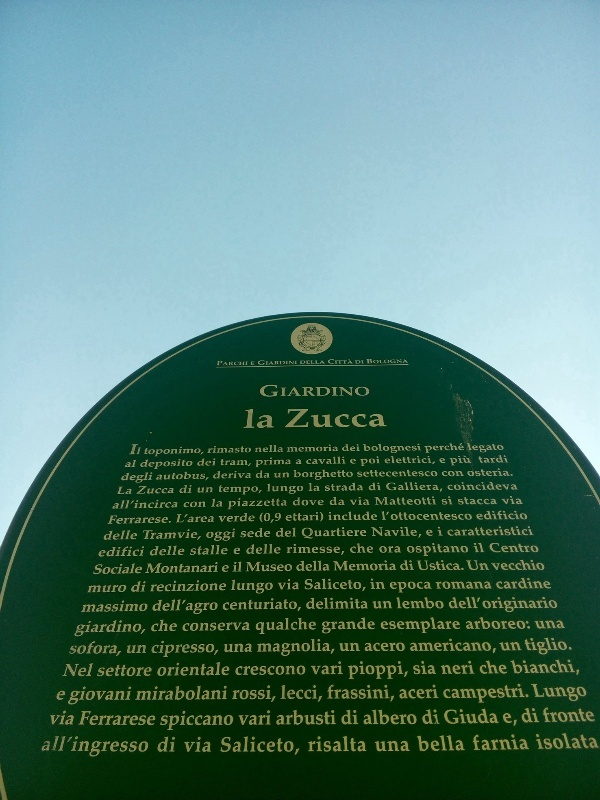text: (49, 735, 64, 761), (65, 735, 80, 761), (81, 735, 96, 761), (97, 735, 112, 761), (113, 735, 128, 761), (129, 735, 144, 761), (177, 711, 192, 735), (193, 711, 208, 735), (209, 711, 224, 735), (289, 680, 304, 704), (305, 680, 320, 704), (257, 579, 273, 601), (529, 636, 544, 659), (545, 636, 560, 659), (545, 684, 560, 707), (561, 684, 576, 707), (449, 732, 465, 753), (241, 579, 256, 601), (337, 613, 352, 635), (353, 613, 368, 635), (449, 685, 464, 707), (465, 685, 480, 707), (481, 685, 496, 707), (497, 685, 512, 707), (513, 685, 528, 707), (481, 635, 497, 655), (289, 408, 304, 429), (305, 408, 320, 429), (321, 408, 336, 429), (337, 408, 352, 429), (353, 408, 368, 429), (369, 408, 384, 429), (257, 408, 272, 429), (385, 614, 400, 635), (401, 614, 416, 635), (417, 614, 432, 635), (433, 614, 448, 635), (225, 736, 240, 757), (241, 736, 256, 757), (257, 736, 272, 757), (273, 736, 288, 757), (417, 732, 432, 753), (433, 732, 448, 753), (163, 711, 176, 735), (81, 637, 96, 657), (97, 637, 112, 657), (161, 640, 176, 660), (177, 640, 192, 660), (193, 640, 208, 660), (257, 638, 272, 658), (273, 638, 288, 658), (289, 638, 304, 658), (305, 638, 320, 658), (417, 635, 432, 655), (433, 635, 448, 655), (449, 635, 464, 655), (465, 635, 480, 655), (531, 684, 544, 707), (81, 618, 96, 637), (97, 618, 112, 637), (113, 618, 128, 637), (129, 618, 144, 637), (257, 616, 272, 635), (273, 616, 288, 635), (289, 616, 304, 635), (225, 594, 240, 613), (241, 594, 256, 613), (257, 594, 272, 613), (273, 594, 288, 613), (353, 661, 368, 680), (369, 661, 384, 680), (385, 661, 400, 680), (449, 595, 464, 614), (465, 595, 480, 614), (481, 595, 496, 614), (497, 595, 512, 614), (513, 595, 528, 614), (529, 595, 544, 614), (81, 711, 96, 730), (97, 711, 112, 730), (113, 711, 128, 730), (129, 711, 144, 730), (81, 686, 96, 705), (97, 686, 112, 705), (113, 686, 128, 705), (321, 638, 335, 658), (321, 709, 337, 726), (97, 594, 112, 612), (113, 594, 128, 612), (129, 594, 144, 612), (161, 599, 176, 617), (177, 599, 192, 617), (193, 599, 208, 617), (193, 735, 208, 753), (241, 686, 256, 704), (257, 686, 272, 704), (337, 685, 352, 703), (353, 685, 368, 703), (369, 685, 384, 703), (449, 708, 464, 726), (465, 708, 480, 726), (481, 708, 496, 726), (481, 733, 496, 751), (497, 733, 512, 751), (513, 733, 528, 751), (289, 594, 303, 613), (324, 613, 336, 635), (417, 540, 432, 557), (433, 540, 448, 557), (449, 540, 464, 557), (161, 736, 176, 753), (321, 736, 336, 753), (337, 736, 352, 753), (289, 709, 304, 726), (305, 709, 320, 726), (369, 709, 384, 726), (385, 709, 400, 726), (401, 709, 416, 726), (545, 734, 560, 751), (561, 734, 576, 751), (577, 734, 592, 751), (545, 707, 560, 724), (561, 707, 576, 724), (577, 707, 592, 724), (561, 636, 572, 659), (577, 684, 588, 707), (244, 408, 256, 429), (449, 614, 461, 635), (289, 736, 301, 757), (545, 595, 558, 614), (353, 384, 369, 399), (161, 618, 177, 633), (513, 659, 528, 675), (529, 659, 544, 675), (545, 659, 560, 675), (225, 711, 235, 735), (353, 736, 367, 753), (145, 735, 154, 761), (305, 616, 317, 635), (145, 711, 157, 730), (273, 384, 288, 399), (289, 384, 304, 399), (305, 384, 320, 399), (321, 384, 336, 399), (337, 384, 352, 399), (209, 527, 224, 542), (257, 523, 272, 538), (161, 663, 176, 678), (177, 663, 192, 678), (193, 663, 208, 678), (209, 663, 224, 678), (321, 661, 336, 676), (289, 542, 304, 557), (305, 542, 320, 557), (321, 542, 336, 557), (305, 577, 320, 592), (321, 577, 336, 592), (337, 577, 352, 592), (401, 579, 416, 594), (417, 579, 432, 594), (481, 659, 496, 674), (145, 686, 160, 701), (161, 686, 176, 701), (177, 686, 192, 701), (193, 686, 208, 701), (209, 686, 224, 701), (241, 711, 256, 726), (401, 685, 416, 700), (417, 685, 432, 700), (337, 469, 353, 483), (529, 558, 545, 572), (561, 659, 575, 675), (209, 640, 220, 660), (84, 594, 96, 612), (305, 469, 320, 483), (321, 469, 336, 483), (353, 577, 367, 592), (417, 661, 432, 675), (449, 660, 464, 674), (497, 558, 512, 572), (513, 558, 528, 572), (481, 618, 496, 632), (497, 618, 512, 632), (513, 618, 528, 632), (257, 711, 271, 726), (529, 705, 540, 724), (113, 637, 123, 657), (66, 663, 80, 677), (466, 618, 480, 632), (129, 472, 144, 485), (113, 528, 128, 541), (257, 455, 272, 468), (273, 455, 288, 468), (241, 498, 256, 511), (257, 498, 272, 511), (273, 498, 288, 511), (305, 526, 320, 539), (321, 526, 336, 539), (337, 526, 352, 539), (243, 523, 256, 538), (113, 664, 128, 677), (129, 664, 144, 677), (161, 561, 176, 574), (177, 561, 192, 574), (193, 561, 208, 574), (417, 559, 432, 572), (433, 559, 448, 572), (449, 559, 464, 572), (51, 711, 64, 726), (177, 459, 193, 471), (289, 483, 305, 495), (449, 443, 465, 455), (353, 598, 369, 610), (309, 736, 320, 753), (277, 709, 288, 726), (353, 526, 367, 539), (260, 384, 272, 399), (145, 459, 160, 471), (161, 459, 176, 471), (225, 485, 240, 497), (241, 485, 256, 497), (273, 483, 288, 495), (433, 443, 448, 455), (385, 495, 400, 507), (401, 495, 416, 507), (417, 495, 432, 507), (353, 542, 368, 554), (161, 581, 176, 593), (177, 581, 192, 593), (193, 581, 208, 593), (209, 581, 224, 593), (225, 643, 240, 655), (257, 561, 272, 573), (273, 561, 288, 573), (337, 560, 352, 572), (353, 560, 368, 572), (369, 560, 384, 572), (321, 598, 336, 610), (337, 598, 352, 610), (401, 560, 416, 572), (497, 578, 512, 590), (513, 578, 528, 590), (529, 578, 544, 590), (385, 685, 395, 703), (385, 741, 400, 753), (503, 712, 512, 732), (353, 496, 369, 507), (232, 579, 240, 601), (342, 708, 352, 725), (131, 442, 144, 455), (450, 454, 464, 466), (81, 663, 93, 677), (466, 560, 480, 572), (145, 447, 160, 458), (161, 447, 176, 458), (177, 447, 192, 458), (145, 529, 160, 540), (161, 529, 176, 540), (177, 529, 192, 540), (369, 444, 384, 455), (385, 444, 400, 455), (401, 444, 416, 455), (481, 444, 496, 455), (337, 481, 352, 492), (369, 481, 384, 492), (305, 496, 320, 507), (401, 481, 416, 492), (417, 481, 432, 492), (449, 480, 464, 491), (465, 480, 480, 491), (481, 480, 496, 491), (497, 480, 512, 491), (481, 509, 496, 520), (497, 509, 512, 520), (513, 509, 528, 520), (449, 525, 464, 536), (465, 525, 480, 536), (481, 525, 496, 536), (497, 525, 512, 536), (513, 525, 528, 536), (497, 542, 512, 553), (513, 542, 528, 553), (385, 510, 400, 521), (401, 510, 416, 521), (417, 510, 432, 521), (433, 510, 448, 521), (449, 510, 464, 521), (385, 527, 400, 538), (401, 527, 416, 538), (289, 511, 304, 522), (305, 511, 320, 522), (113, 546, 128, 557), (129, 546, 144, 557), (129, 644, 144, 655), (193, 545, 208, 556), (209, 545, 224, 556), (257, 544, 272, 555), (241, 665, 256, 676), (257, 665, 272, 676), (273, 665, 288, 676), (289, 665, 304, 676), (305, 561, 320, 572), (401, 598, 416, 609), (417, 598, 432, 609), (545, 619, 560, 630), (497, 659, 508, 674), (209, 599, 218, 617), (471, 733, 480, 751), (72, 637, 80, 657), (422, 709, 432, 725), (148, 561, 160, 574), (307, 598, 320, 610), (371, 578, 384, 590), (42, 735, 48, 761), (293, 469, 304, 483), (386, 481, 400, 492), (407, 540, 416, 557), (535, 734, 544, 751), (72, 686, 80, 705), (177, 513, 192, 523), (193, 513, 208, 523), (225, 513, 240, 523), (225, 470, 240, 480), (225, 527, 235, 542), (321, 456, 336, 466), (337, 511, 352, 521), (353, 511, 368, 521), (385, 544, 400, 554), (161, 546, 176, 556), (97, 564, 112, 574), (113, 564, 128, 574), (129, 564, 144, 574), (193, 622, 208, 632), (209, 622, 224, 632), (225, 622, 240, 632), (310, 661, 320, 676), (369, 642, 384, 652), (385, 642, 400, 652), (390, 579, 400, 594), (449, 581, 464, 591), (465, 581, 480, 591), (193, 472, 209, 481), (497, 468, 513, 477), (369, 455, 381, 467), (132, 581, 144, 593), (241, 643, 253, 655), (385, 560, 397, 572), (500, 641, 512, 653), (184, 735, 192, 753), (282, 680, 288, 704), (328, 685, 336, 703), (229, 498, 240, 511), (467, 444, 480, 455), (371, 527, 384, 538), (101, 664, 112, 677), (289, 579, 300, 592), (241, 513, 255, 523), (161, 472, 176, 481), (177, 472, 192, 481), (129, 500, 144, 509), (145, 500, 160, 509), (161, 500, 176, 509), (113, 515, 128, 524), (129, 515, 144, 524), (145, 515, 160, 524), (257, 444, 272, 453), (289, 444, 304, 453), (305, 444, 320, 453), (321, 444, 336, 453), (481, 455, 496, 464), (385, 456, 400, 465), (401, 456, 416, 465), (417, 456, 432, 465), (481, 468, 496, 477), (337, 542, 346, 557), (65, 711, 74, 726), (401, 661, 408, 680), (521, 705, 528, 724), (437, 525, 448, 537), (277, 526, 288, 538), (261, 512, 272, 524), (369, 613, 375, 635), (372, 599, 384, 610), (129, 528, 139, 541), (307, 456, 320, 466), (278, 579, 288, 592), (339, 642, 352, 652), (435, 581, 448, 591), (465, 660, 474, 674), (273, 686, 280, 704), (193, 447, 204, 458), (325, 481, 336, 492), (353, 481, 364, 492), (501, 494, 512, 505), (513, 494, 524, 505), (101, 546, 112, 557), (433, 598, 444, 609), (145, 486, 160, 494), (209, 446, 224, 454), (225, 446, 240, 454), (449, 470, 464, 478), (374, 495, 384, 507), (465, 497, 480, 505), (481, 497, 496, 505), (97, 585, 112, 593), (246, 561, 256, 573), (401, 741, 411, 753), (115, 500, 128, 509), (257, 470, 270, 479), (467, 468, 480, 477), (209, 561, 218, 574), (274, 471, 288, 479), (472, 540, 480, 554), (113, 585, 127, 593), (433, 709, 440, 725), (241, 470, 252, 480), (433, 481, 443, 492), (529, 542, 539, 553), (481, 581, 492, 591), (534, 619, 544, 630), (443, 685, 448, 707), (212, 498, 224, 507), (497, 455, 509, 464), (359, 455, 368, 467), (151, 581, 160, 593), (154, 599, 160, 617), (513, 641, 522, 653), (234, 686, 240, 704), (375, 741, 384, 753), (153, 618, 160, 633), (145, 472, 153, 485), (161, 486, 174, 494), (593, 734, 599, 751), (214, 470, 224, 480), (155, 640, 160, 660), (411, 635, 416, 655), (513, 712, 518, 732), (181, 485, 192, 494), (161, 515, 172, 524), (309, 483, 320, 492), (295, 496, 304, 507), (247, 544, 256, 555), (321, 561, 330, 572), (441, 660, 448, 674), (424, 443, 432, 455), (273, 512, 281, 524), (481, 560, 489, 572), (321, 680, 325, 704), (524, 636, 528, 659), (193, 501, 206, 508), (105, 528, 112, 541), (145, 664, 152, 677), (233, 560, 240, 573), (273, 444, 283, 453), (369, 471, 384, 477), (385, 471, 400, 477), (401, 471, 416, 477), (417, 471, 432, 477), (337, 456, 346, 466), (369, 511, 378, 521), (151, 546, 160, 556), (183, 622, 192, 632), (241, 622, 250, 632), (225, 663, 231, 678), (337, 661, 343, 676), (433, 685, 439, 700), (197, 486, 208, 494), (193, 529, 201, 540), (273, 544, 281, 555), (296, 561, 304, 572), (385, 599, 393, 610), (353, 708, 358, 725), (465, 454, 472, 466), (289, 526, 296, 538), (380, 614, 384, 635), (545, 578, 552, 590), (119, 485, 128, 494), (343, 444, 352, 453), (337, 359, 353, 364), (241, 446, 251, 454), (337, 496, 345, 506), (177, 546, 185, 556), (122, 472, 128, 485), (497, 444, 504, 455), (441, 494, 448, 505), (465, 510, 472, 521), (348, 661, 352, 680), (225, 361, 240, 366), (273, 361, 288, 366), (369, 359, 384, 364), (385, 359, 400, 364), (139, 686, 144, 701), (200, 458, 208, 467), (257, 485, 263, 497), (145, 594, 149, 612), (444, 708, 448, 726), (258, 361, 272, 366), (329, 511, 336, 521), (353, 642, 360, 652), (491, 558, 496, 572), (465, 540, 469, 557), (364, 709, 368, 726), (357, 471, 368, 477), (490, 542, 496, 553), (355, 360, 368, 365), (59, 690, 64, 703), (88, 585, 96, 593), (209, 458, 216, 467), (295, 459, 304, 466), (353, 444, 360, 453), (439, 457, 448, 464), (305, 360, 320, 364), (209, 513, 215, 523), (219, 485, 224, 497), (330, 496, 336, 506), (369, 542, 374, 554), (129, 686, 132, 705), (129, 460, 136, 468), (184, 501, 192, 508), (441, 470, 448, 478), (481, 540, 485, 554), (433, 661, 437, 675), (363, 444, 368, 455), (417, 444, 422, 455), (513, 480, 518, 491), (529, 525, 534, 536), (417, 527, 422, 538), (235, 665, 240, 676), (395, 598, 400, 609), (561, 619, 566, 630), (234, 546, 240, 555), (219, 513, 224, 523), (379, 544, 384, 554), (401, 642, 406, 652), (268, 483, 272, 495), (433, 495, 437, 507), (458, 497, 464, 505), (426, 529, 432, 537), (476, 509, 480, 520), (449, 494, 453, 505), (225, 545, 229, 556), (529, 685, 531, 707), (385, 408, 387, 429), (413, 661, 416, 675), (222, 736, 224, 757), (289, 361, 297, 366), (328, 359, 336, 364), (139, 486, 144, 494), (209, 486, 214, 494), (364, 642, 368, 652), (289, 455, 292, 468), (78, 618, 80, 637), (145, 618, 147, 637), (141, 459, 144, 471), (225, 564, 229, 573), (289, 561, 292, 573), (333, 560, 336, 572), (209, 735, 211, 753), (497, 708, 499, 726), (241, 361, 248, 366), (401, 359, 408, 364), (417, 709, 419, 726), (542, 707, 544, 724), (593, 707, 595, 724), (321, 496, 324, 507), (349, 496, 352, 507), (381, 510, 384, 521), (321, 511, 324, 522), (353, 458, 357, 466), (510, 659, 512, 675), (218, 361, 224, 366), (206, 527, 208, 542), (433, 471, 438, 477), (225, 686, 227, 701), (529, 618, 531, 632), (157, 472, 160, 481), (129, 485, 132, 494), (109, 515, 112, 524), (302, 526, 304, 539), (225, 581, 227, 593), (286, 511, 288, 522), (305, 665, 307, 676), (287, 408, 288, 429), (273, 408, 274, 429), (251, 362, 256, 366), (255, 616, 256, 635), (223, 594, 224, 613), (447, 595, 448, 614), (337, 444, 339, 453), (478, 455, 480, 464), (433, 456, 435, 465), (222, 564, 224, 573), (529, 733, 530, 751), (300, 360, 304, 364), (321, 360, 325, 364), (350, 458, 352, 466), (159, 663, 160, 678), (287, 542, 288, 557), (479, 659, 480, 674), (239, 711, 240, 726), (241, 560, 242, 573), (65, 690, 66, 703), (351, 542, 352, 554), (145, 581, 146, 593), (223, 643, 224, 655), (385, 578, 386, 590), (447, 480, 448, 491), (127, 644, 128, 655), (145, 644, 146, 655), (366, 359, 368, 364), (401, 544, 402, 554), (177, 500, 178, 509), (287, 444, 288, 453), (289, 471, 290, 479), (497, 497, 498, 505)
